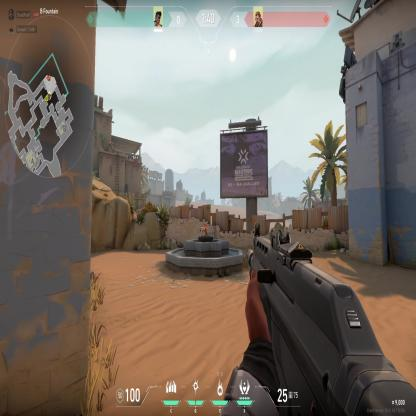enemy: (203, 222, 208, 236)
